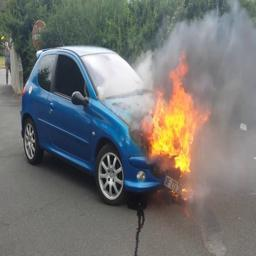fire: (140, 50, 209, 172)
